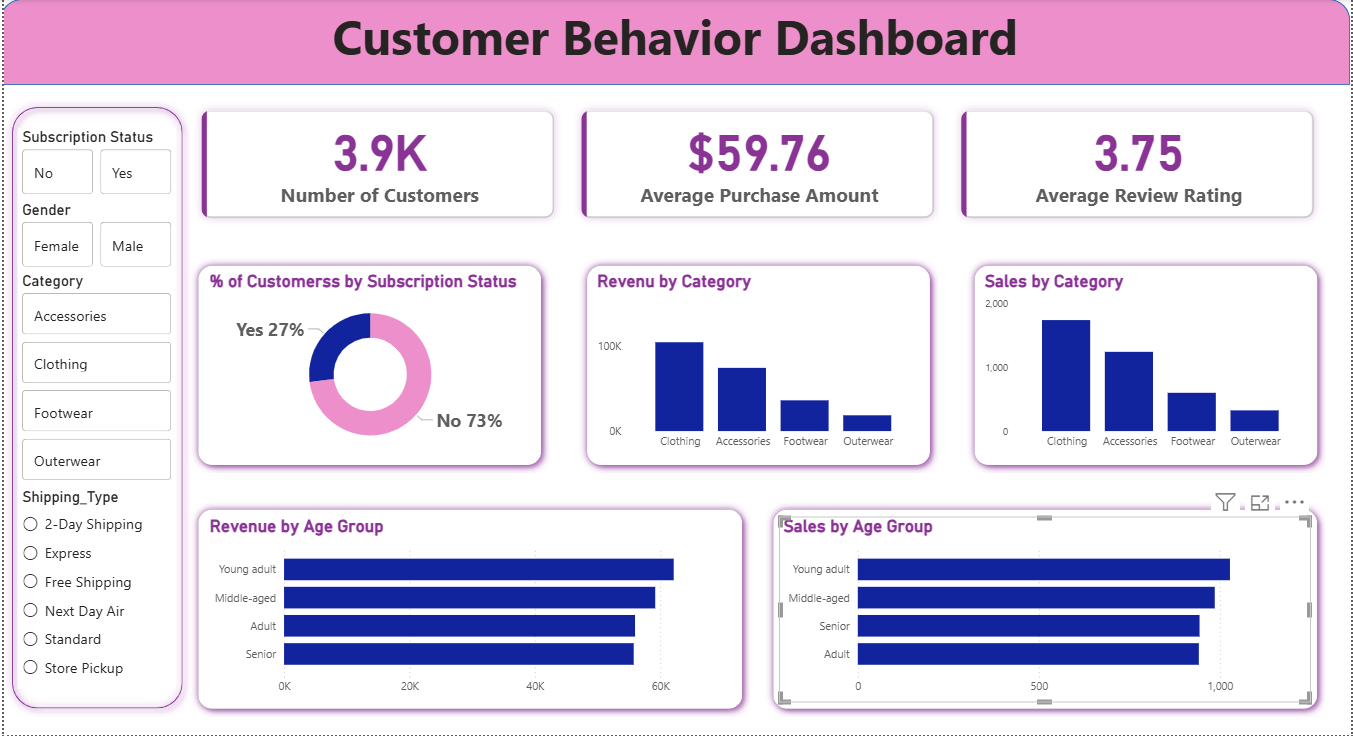

Layout of this report page (visuals, bound fields, positions):
{"tool":"powerbi","page":{"name":"Page 1","canvas":[1500,820],"ordinal":0},"visuals":[{"type":"cardVisual","fields":{"Data":["final_data.Number of Customers","final_data.Average Purchase Amount","final_data.Average Review Rating"]},"box":[192,96,1296,176],"z":0},{"type":"shape","box":[-4,0,1504,96],"z":1000},{"type":"textbox","box":[-4,0,1504,96],"z":2000},{"type":"shape","box":[208,288,400,240],"z":2001},{"type":"donutChart","title":"% of Customerss by Subscription Status","fields":{"Category":["final_data.subscription_status"],"Y":["CountNonNull(final_data.customer_id)"]},"box":[224,304,368,208],"z":2002},{"type":"donutChart","title":"% of Customerss by Subscription Status","fields":{"Category":["final_data.subscription_status"],"Y":["CountNonNull(final_data.customer_id)"]},"box":[656,304,368,208],"z":2003},{"type":"shape","box":[640,288,400,240],"z":2004},{"type":"shape","box":[1072,288,400,240],"z":2005},{"type":"clusteredColumnChart","title":"Revenu by Category","fields":{"Category":["final_data.category"],"Y":["Sum(final_data.purchase_amount)"]},"box":[656,304,368,208],"z":2008},{"type":"clusteredColumnChart","title":"Sales by Category","fields":{"Category":["final_data.category"],"Y":["CountNonNull(final_data.purchase_amount)"]},"box":[1088,304,368,208],"z":2009},{"type":"shape","box":[0,112,208,688],"z":2010},{"type":"advancedSlicerVisual","fields":{"Values":["final_data.subscription_status"]},"box":[16,144,176,80],"z":2011},{"type":"advancedSlicerVisual","fields":{"Values":["final_data.gender"]},"box":[16,224,176,80],"z":2012},{"type":"advancedSlicerVisual","fields":{"Values":["final_data.category"]},"box":[16,304,176,240],"z":2013},{"type":"listSlicer","fields":{"Values":["final_data.shipping_type"]},"box":[16,544,176,224],"z":2014},{"type":"shape","box":[208,560,624,240],"z":2016},{"type":"clusteredBarChart","title":"Revenue by Age Group","fields":{"Y":["Sum(final_data.purchase_amount)"],"Category":["final_data.age_group"]},"box":[224,576,592,208],"z":2017},{"type":"shape","box":[848,560,624,240],"z":2018},{"type":"clusteredBarChart","title":"Sales by Age Group","fields":{"Y":["CountNonNull(final_data.purchase_amount)"],"Category":["final_data.age_group"]},"box":[864,576,592,208],"z":2019}]}

Visuals, with their boxes in screenshot pixels (x1, y1, x2, y2), scaled from the page's 1500x820 canvas onto the 1353x736 screenshot:
cardVisual - final_data.Number of Customers x final_data.Average Purchase Amount: 173,86,1342,244
shape: 0,0,1352,86
textbox: 0,0,1352,86
shape: 188,258,548,474
"% of Customerss by Subscription Status" donutChart: 202,273,534,460
"% of Customerss by Subscription Status" donutChart: 592,273,924,460
shape: 577,258,938,474
shape: 967,258,1328,474
"Revenu by Category" clusteredColumnChart: 592,273,924,460
"Sales by Category" clusteredColumnChart: 981,273,1313,460
shape: 0,101,188,718
advancedSlicerVisual - final_data.subscription_status: 14,129,173,201
advancedSlicerVisual - final_data.gender: 14,201,173,273
advancedSlicerVisual - final_data.category: 14,273,173,488
listSlicer - final_data.shipping_type: 14,488,173,689
shape: 188,503,750,718
"Revenue by Age Group" clusteredBarChart: 202,517,736,704
shape: 765,503,1328,718
"Sales by Age Group" clusteredBarChart: 779,517,1313,704
